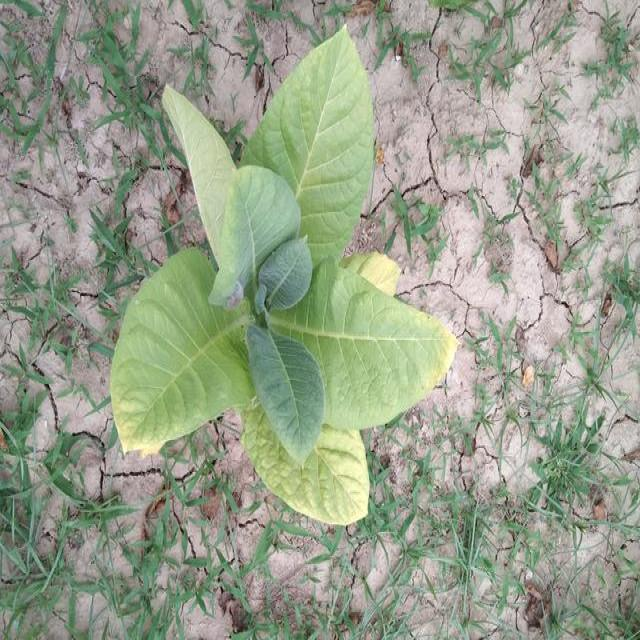crop: (103, 26, 466, 530)
